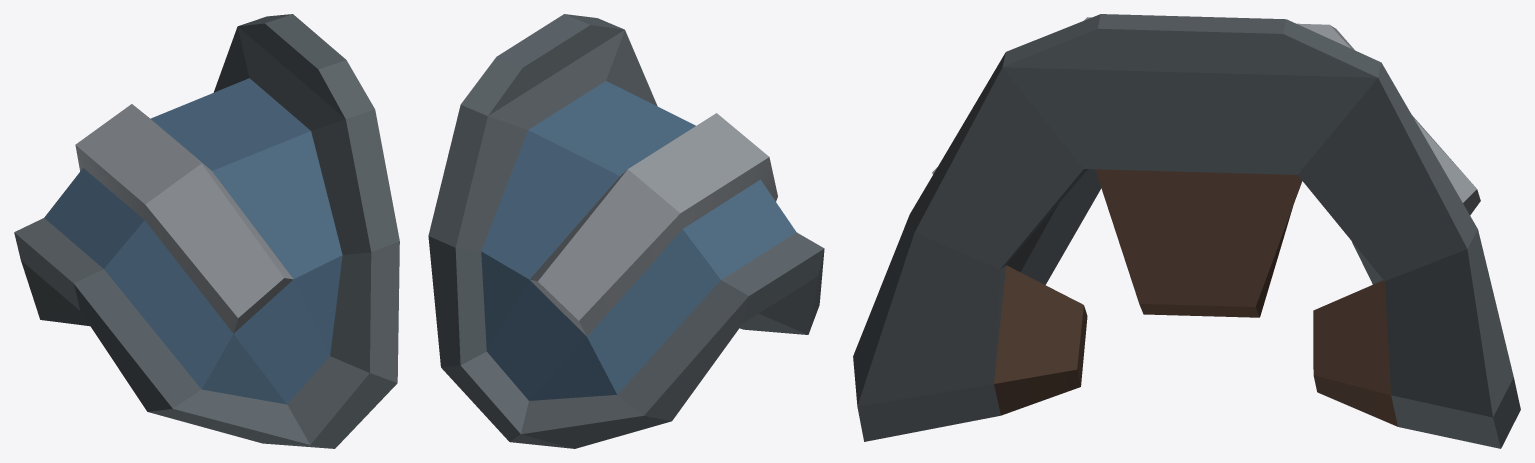
Rendered from Chr_ShoulderAttachRight_11_Static.fbx.
The picture shows the model from 3 angles, left to right: view 1: azimuth 30°, elevation 25°; view 2: azimuth 150°, elevation 25°; view 3: azimuth 270°, elevation 25°; orthographic projection. The views are drawn at different scales.
Parts seen in each view (by area): view 1: Chr_ShoulderAttachRight_11_Static; view 2: Chr_ShoulderAttachRight_11_Static; view 3: Chr_ShoulderAttachRight_11_Static.
Part boxes in pixels (x1=…): Chr_ShoulderAttachRight_11_Static: x1=14, y1=14, x2=399, y2=448; Chr_ShoulderAttachRight_11_Static: x1=428, y1=14, x2=824, y2=448; Chr_ShoulderAttachRight_11_Static: x1=853, y1=14, x2=1520, y2=448.
Size of the model in its own units: 0.2588 by 0.2829 by 0.3474.
